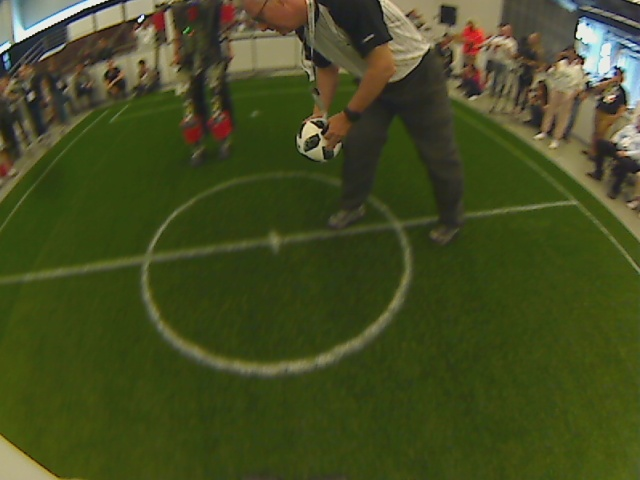ball: (292, 114, 347, 166)
